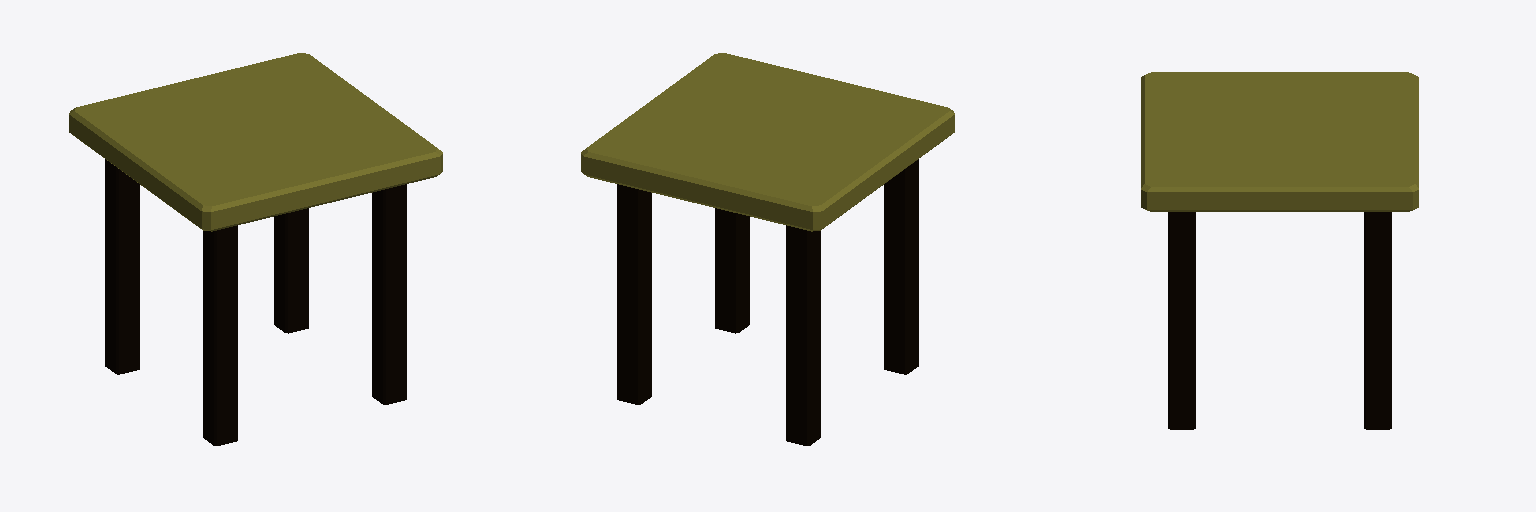
File: table.obj
The picture shows the model from 3 angles: view 1: azimuth 30°, elevation 25°; view 2: azimuth 150°, elevation 25°; view 3: azimuth 270°, elevation 25°; orthographic projection.
Visible parts, largest first — view 1: Plane; view 2: Plane; view 3: Plane.
Part boxes in pixels (x1,y1,x2,y2): Plane: (69, 53, 442, 445); Plane: (581, 53, 954, 445); Plane: (1141, 72, 1418, 429).
Bounding box in the file's own units: 1 × 1 × 1.